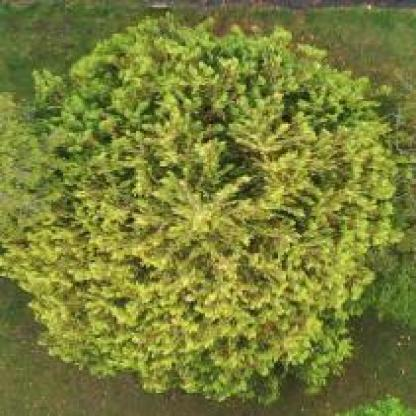Coniferous Tree: (0, 7, 410, 404)
